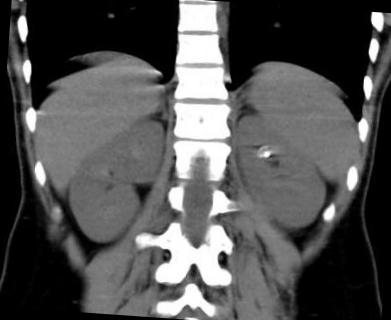Tas_Var: (260, 150, 272, 160)
